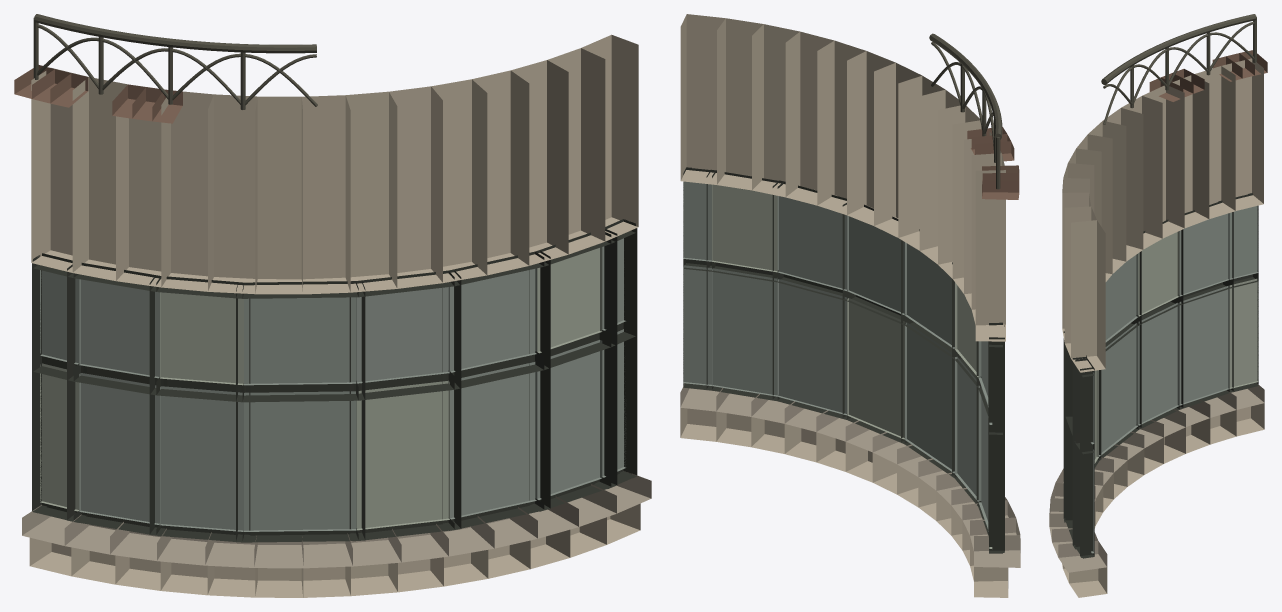
Rendered from jingan-xinzha-1378-no17-curved-steel-window-web.glb.
The picture shows the model from 3 angles, left to right: view 1: azimuth 30°, elevation 25°; view 2: azimuth 150°, elevation 25°; view 3: azimuth 270°, elevation 25°; orthographic projection. The views are drawn at different scales.
Parts seen in each view (by area): view 1: 新闸路1378弄17号弧形钢窗与露台铁栏; view 2: 新闸路1378弄17号弧形钢窗与露台铁栏; view 3: 新闸路1378弄17号弧形钢窗与露台铁栏.
Part boxes in pixels (left/top/right/bottom): 新闸路1378弄17号弧形钢窗与露台铁栏: left=14, top=14, right=651, bottom=597; 新闸路1378弄17号弧形钢窗与露台铁栏: left=680, top=14, right=1020, bottom=597; 新闸路1378弄17号弧形钢窗与露台铁栏: left=1049, top=14, right=1267, bottom=597.
Size of the model in its own units: 3 by 3.06 by 1.49.
